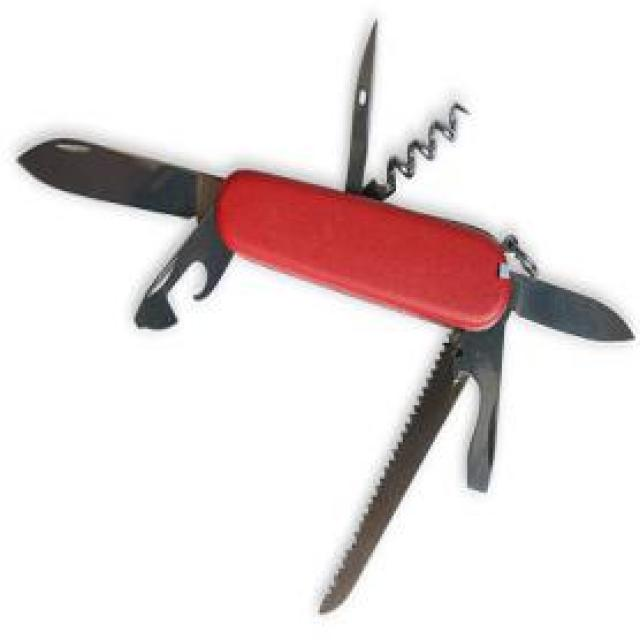knife: (17, 22, 633, 621)
